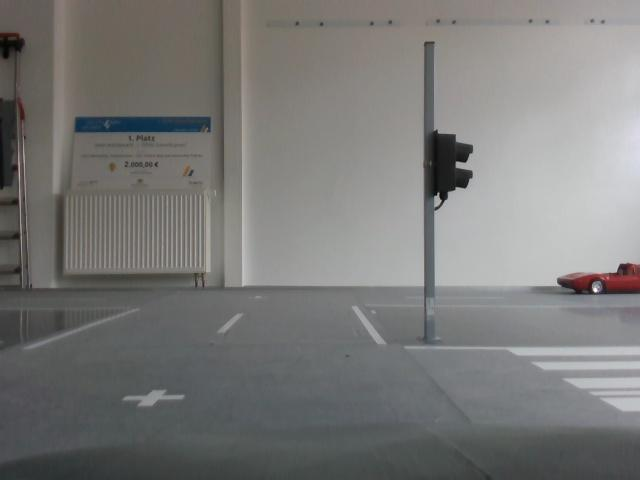car: (559, 248, 640, 303)
traffic light: (421, 124, 477, 211)
